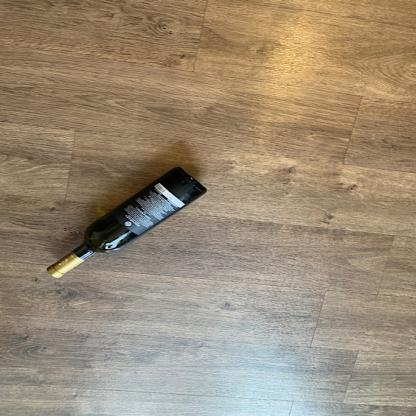trash: (45, 164, 207, 282)
